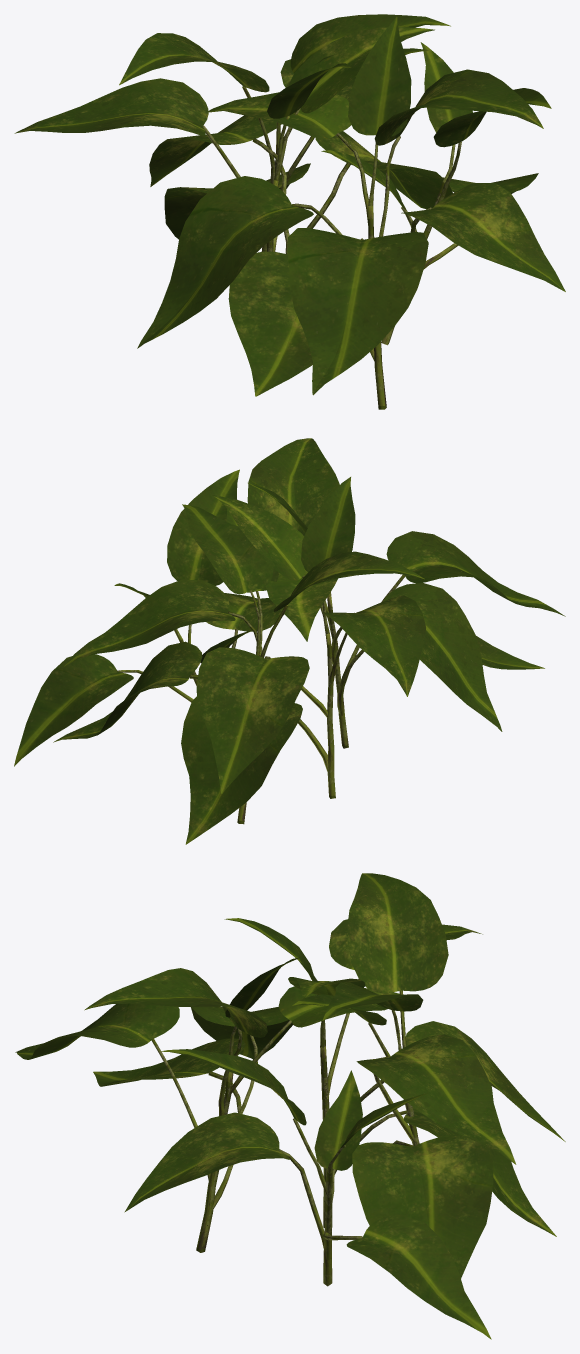
The model's file is cargo_natural_plant.glb.
The picture shows the model from 3 angles, top to bottom: view 1: azimuth 30°, elevation 25°; view 2: azimuth 150°, elevation 25°; view 3: azimuth 270°, elevation 25°; orthographic projection. The views are drawn at different scales.
Visible parts, largest first — view 1: KB3D_ENC_PropPlant_A; view 2: KB3D_ENC_PropPlant_A; view 3: KB3D_ENC_PropPlant_A.
Boxes of the visible parts, left/top/right/bottom form: KB3D_ENC_PropPlant_A: left=14, top=14, right=565, bottom=409; KB3D_ENC_PropPlant_A: left=14, top=438, right=565, bottom=844; KB3D_ENC_PropPlant_A: left=15, top=873, right=565, bottom=1339.
Bounding box in the file's own units: 1.06 × 0.7174 × 1.1.
1 material, 1 textured.
